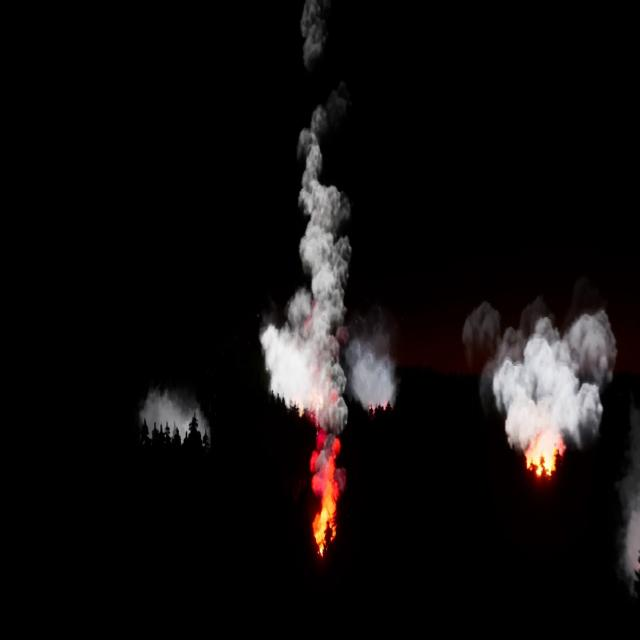fire: (525, 433, 567, 484), (310, 498, 336, 555)
smoke: (257, 0, 397, 500), (466, 284, 620, 452), (136, 380, 214, 444), (622, 464, 640, 589)
